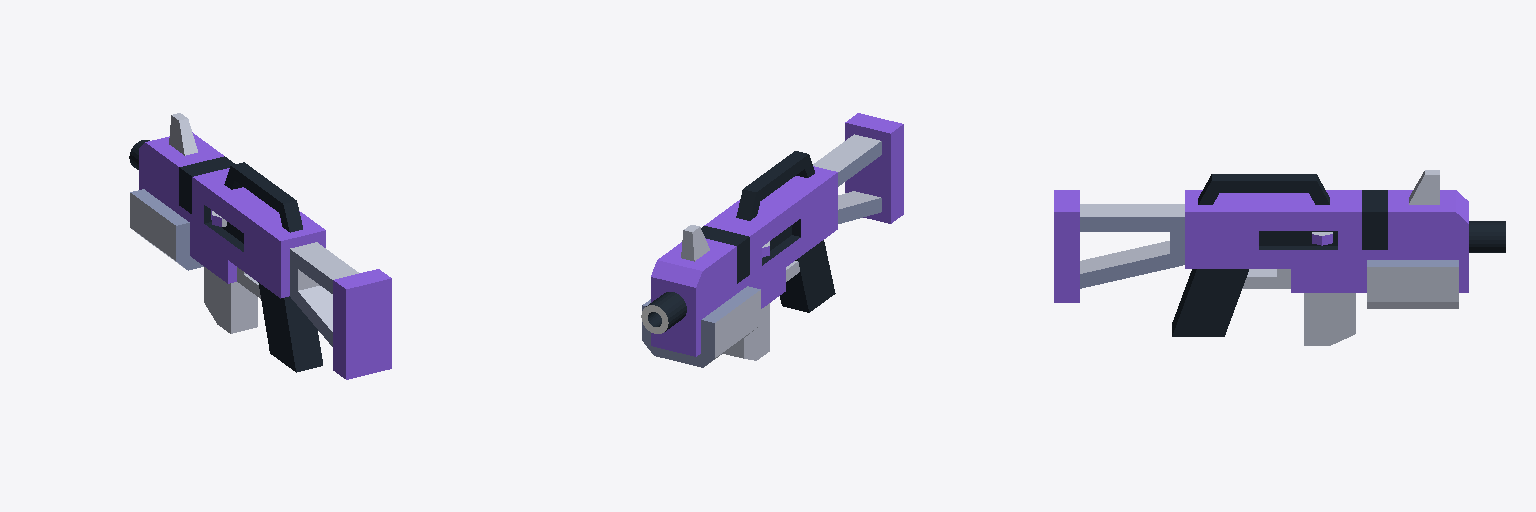
Rendered from blasterD.obj.
3 views of the same model, side by side, from view 1: azimuth 30°, elevation 25°; view 2: azimuth 150°, elevation 25°; view 3: azimuth 270°, elevation 25° (orthographic).
Visible parts, largest first — view 1: blasterD; view 2: blasterD; view 3: blasterD.
Boxes of the visible parts, x1,y1,x2,y2 form: blasterD: [129, 113, 391, 379]; blasterD: [641, 113, 903, 367]; blasterD: [1054, 170, 1505, 345].
Bounding box in the file's own units: 0.16 × 0.35 × 0.86.